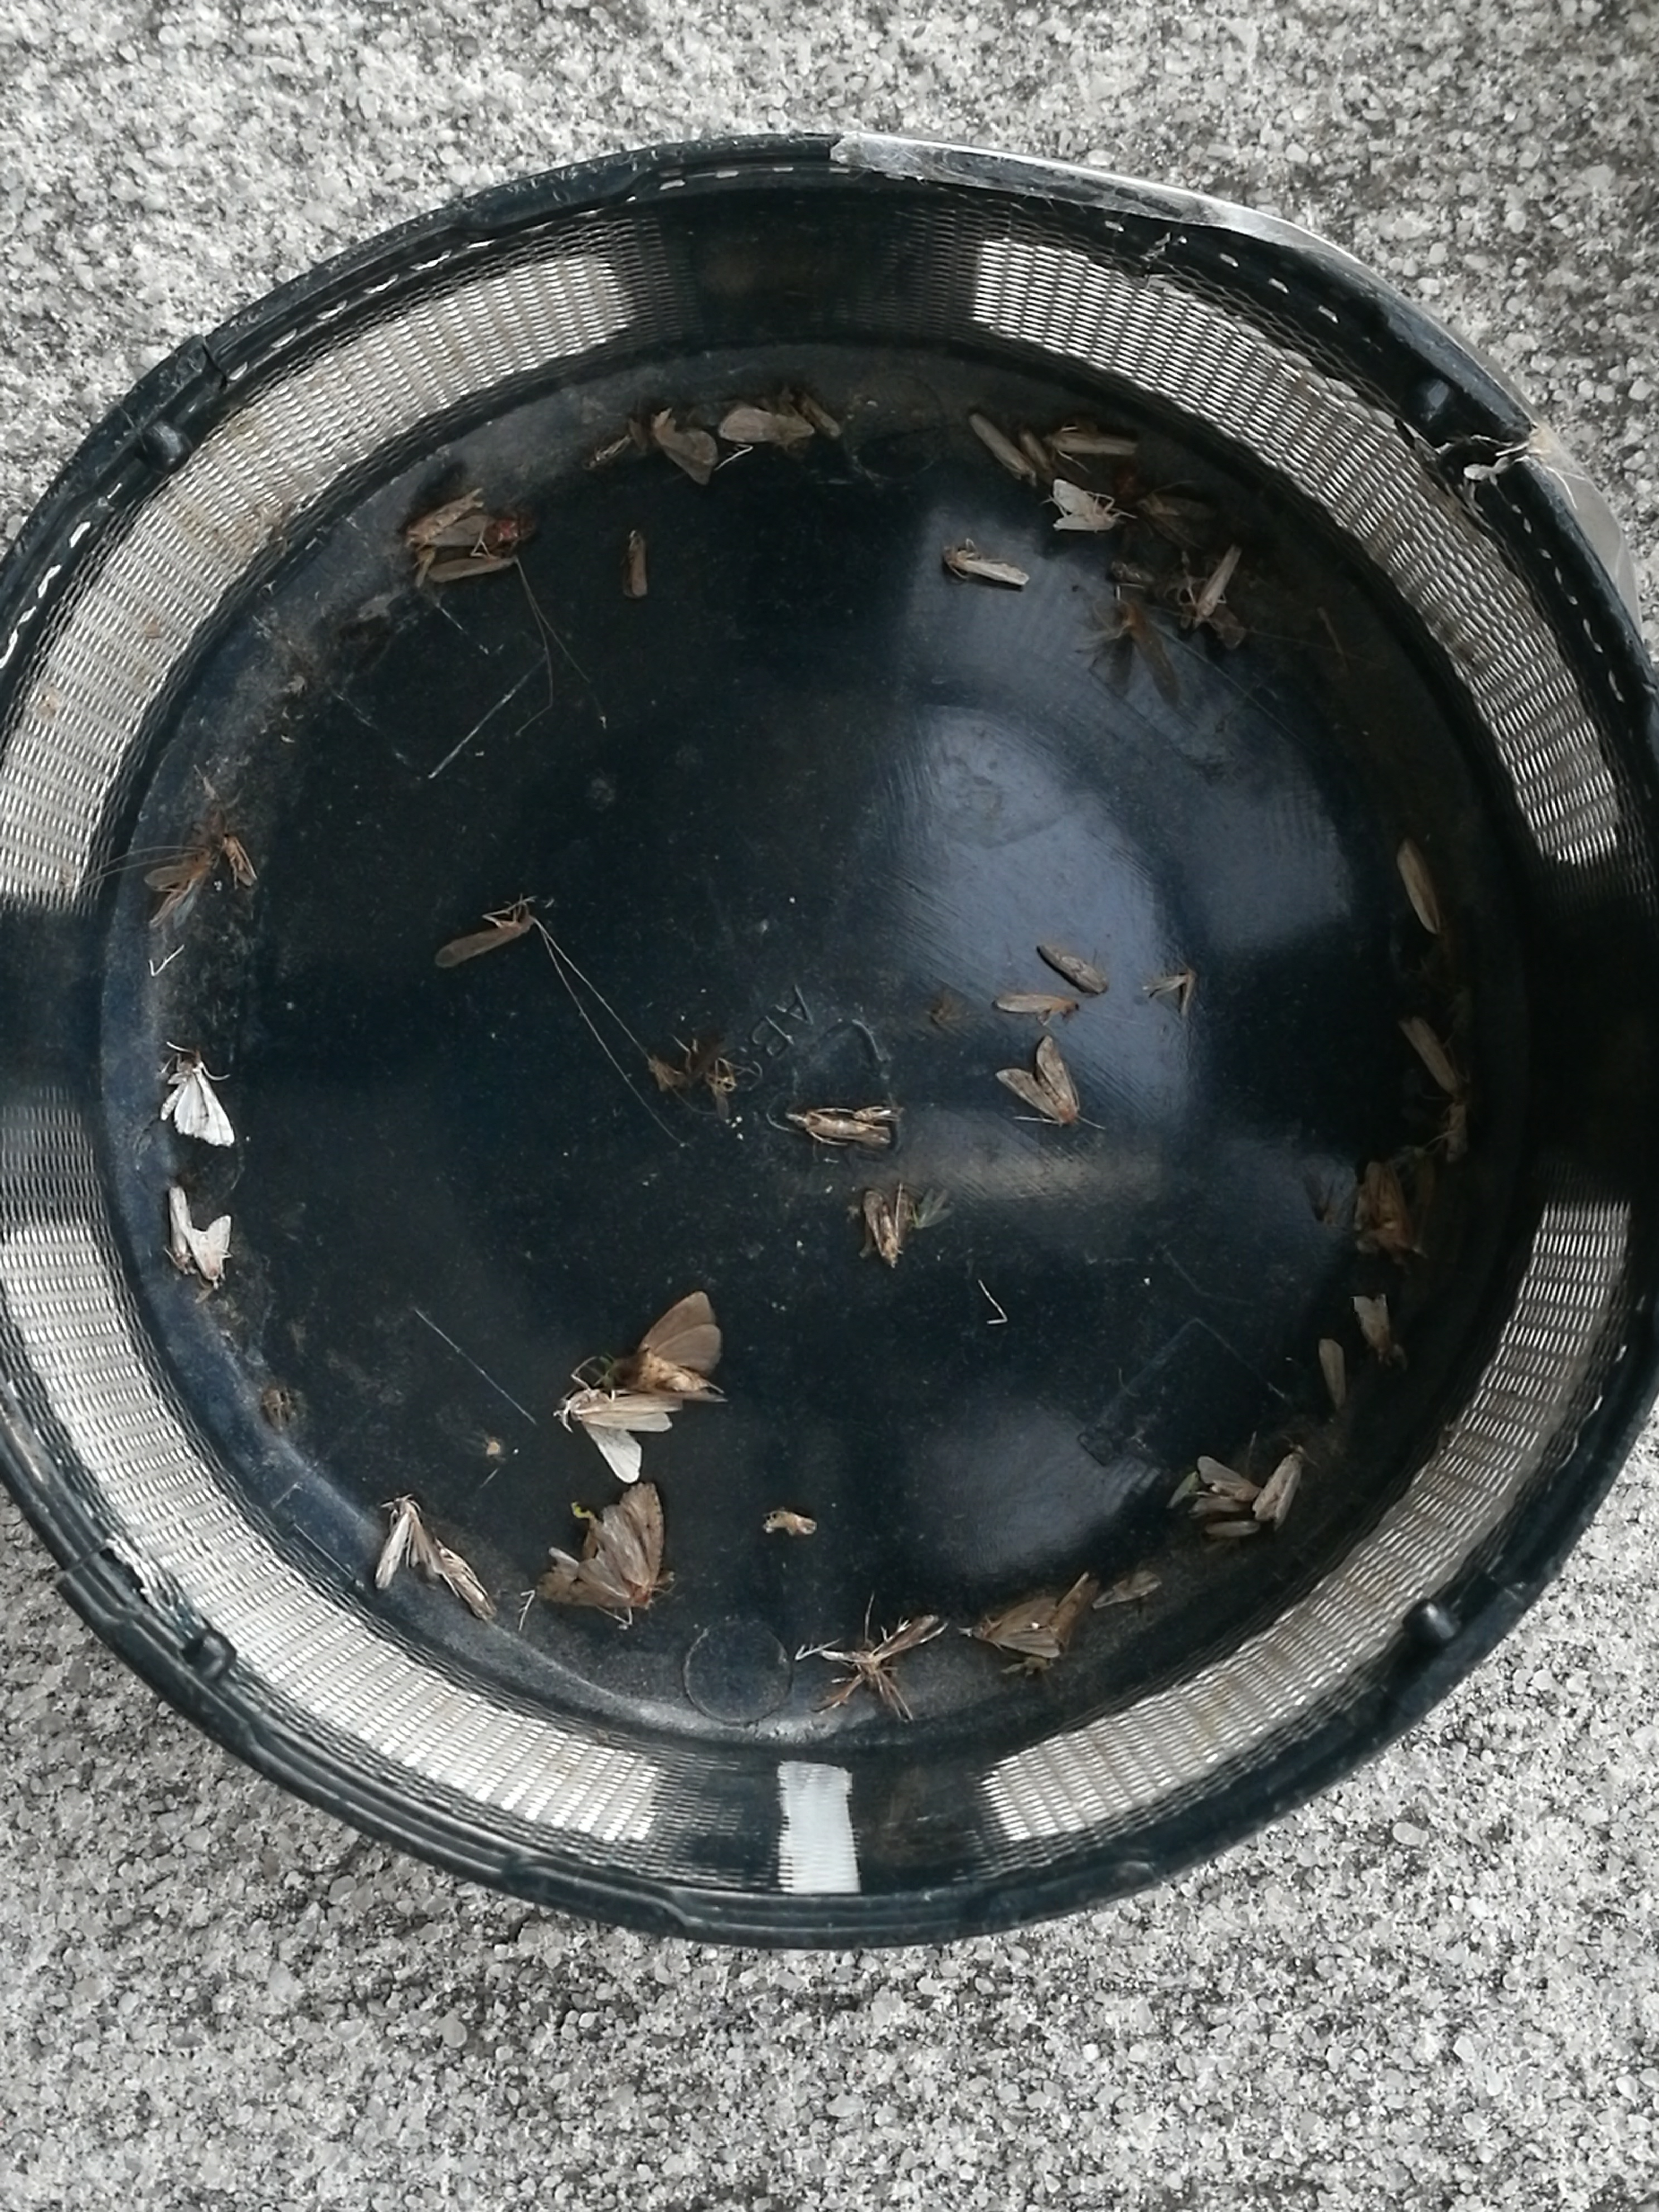beetle: (493, 517, 537, 543)
mosquito: (1121, 597, 1180, 707), (434, 916, 533, 968), (1399, 1015, 1457, 1096), (971, 411, 1035, 481), (1255, 1442, 1305, 1529), (1366, 1163, 1410, 1264), (437, 1547, 497, 1620), (784, 1111, 890, 1148), (943, 542, 1030, 585), (1195, 545, 1243, 625), (1035, 944, 1107, 993), (408, 516, 493, 549), (145, 850, 213, 890), (1351, 1292, 1389, 1362), (1044, 428, 1134, 456), (167, 1188, 193, 1273), (429, 557, 514, 582), (800, 392, 842, 439), (995, 993, 1079, 1015), (223, 833, 256, 887), (624, 528, 648, 596), (584, 435, 631, 467), (1443, 1101, 1466, 1162), (1110, 563, 1155, 583), (1202, 1522, 1260, 1538)
moth: (537, 1484, 664, 1606), (612, 1291, 728, 1402), (558, 1388, 683, 1482), (995, 1036, 1080, 1127), (159, 1061, 235, 1146), (376, 1498, 444, 1590), (976, 1597, 1060, 1658), (652, 406, 716, 484), (1136, 491, 1218, 549), (1190, 1456, 1262, 1514), (864, 1181, 908, 1268), (181, 1216, 232, 1280), (720, 408, 816, 441), (1054, 479, 1115, 529)
